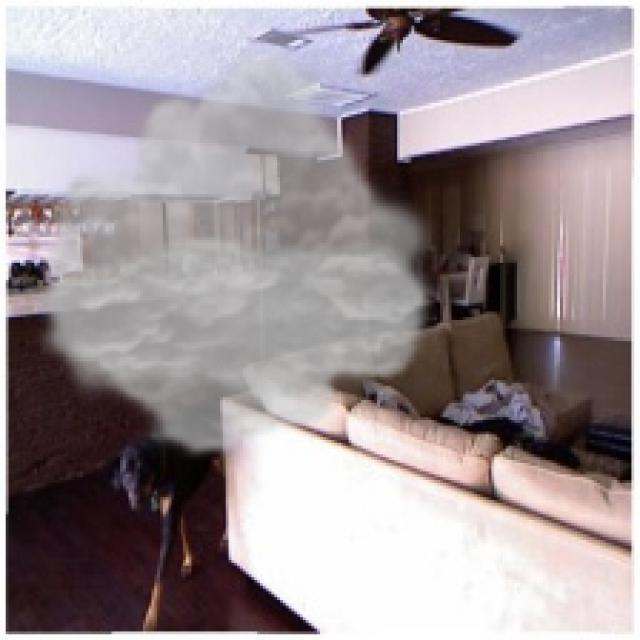Smoke: (28, 43, 443, 460)
